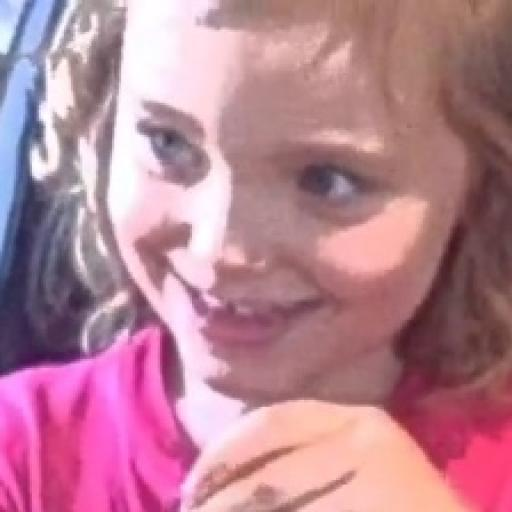Autism: (107, 26, 477, 465)
